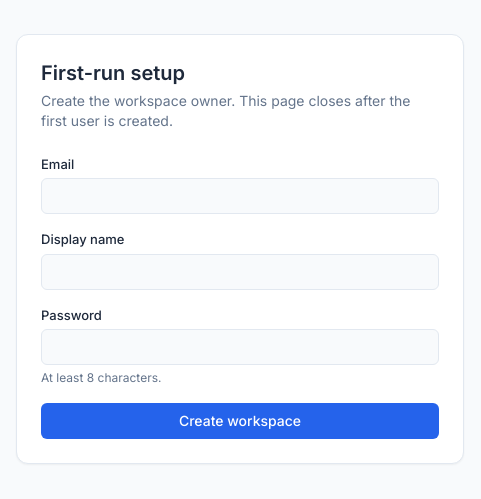
Test: SetupPage when setup is rate limited › says how long to wait instead of 'Setup failed'
Type "anna@example.org" into the field labelled "Email" at [240, 196], box [41,178,439,214]
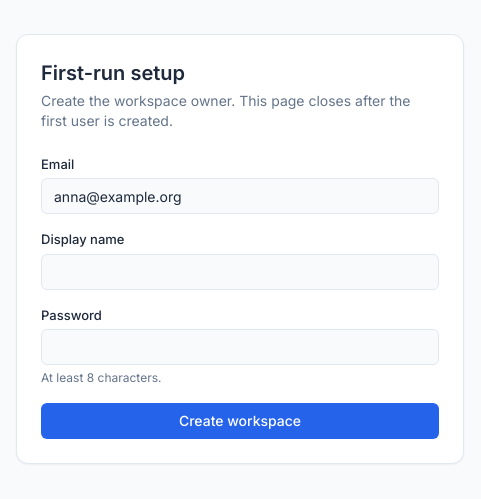
Type "long-enough-1" into the field labelled "Display name" at [240, 272], box [41,254,439,290]
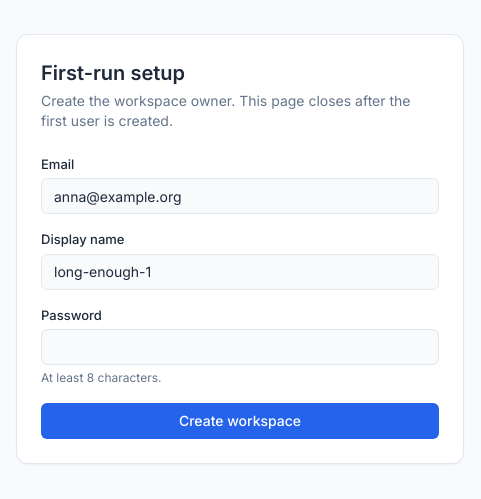
Type "long-enough-1" into the password field labelled "Password At least 8 characters." at [240, 347], box [41,329,439,365]
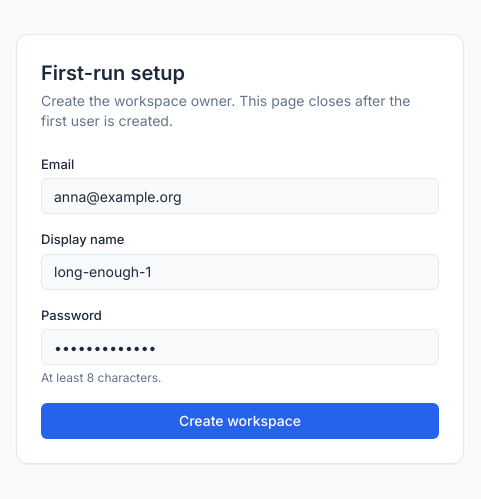
Submit the form with test id "setup-form", box [41,155,439,439]
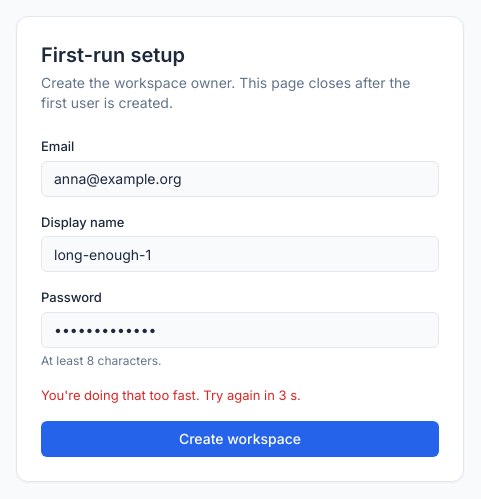
Expected: the message with test id "setup-error" reads "You're doing that too fast. Try again in 3 s.", [41,386,301,402]
